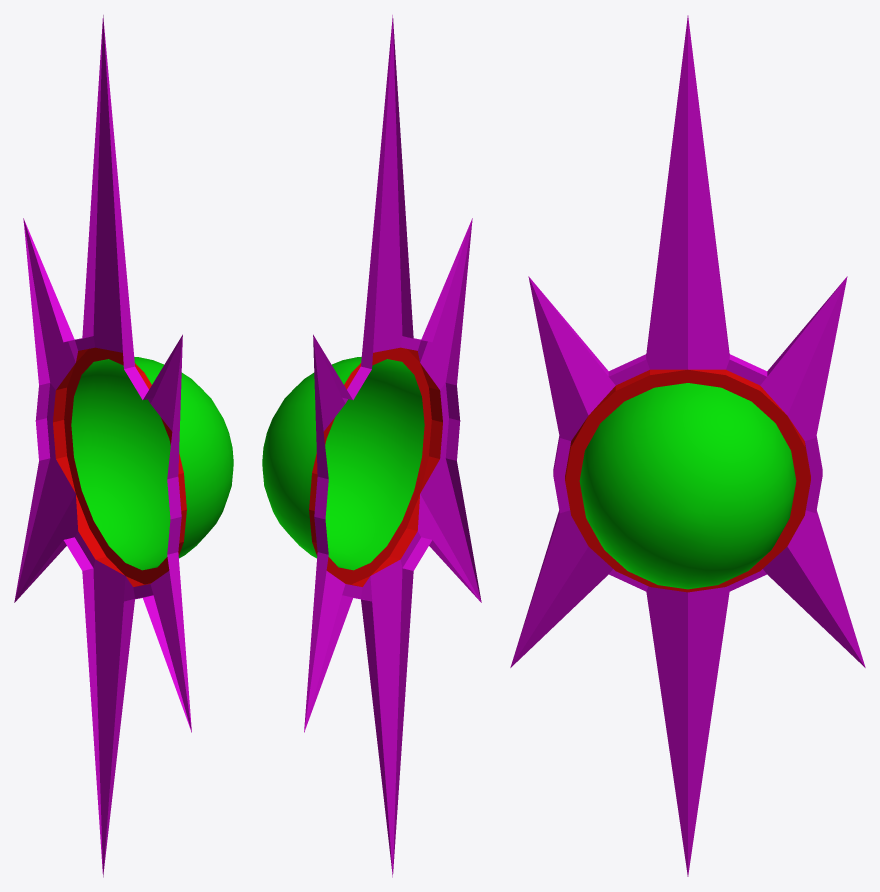
Rendered from SM_Lumiere2.fbx.
3 renders of one model, left to right at view 1: azimuth 30°, elevation 25°; view 2: azimuth 150°, elevation 25°; view 3: azimuth 270°, elevation 25°, orthographic.
Visible parts, largest first — view 1: pSphere1; view 2: pSphere1; view 3: pSphere1.
Boxes of the visible parts, x1,y1,x2,y2 form: pSphere1: (14,15,233,877); pSphere1: (262,15,481,877); pSphere1: (510,15,865,876).
Bounding box in the file's own units: 0.4992 × 3.54 × 1.32.
